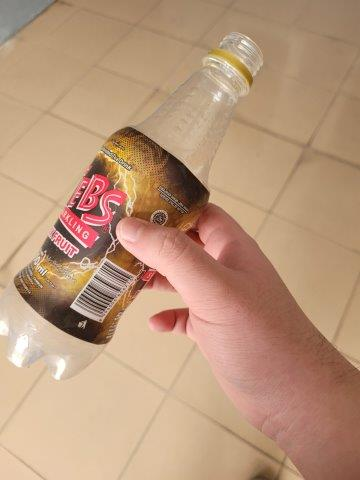botolplastik: (1, 35, 263, 383)
